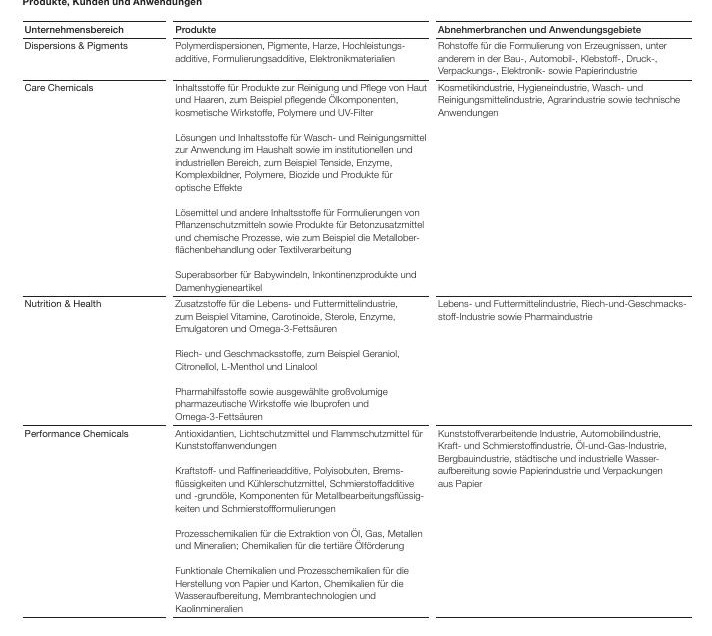table: (0, 0, 712, 636)
